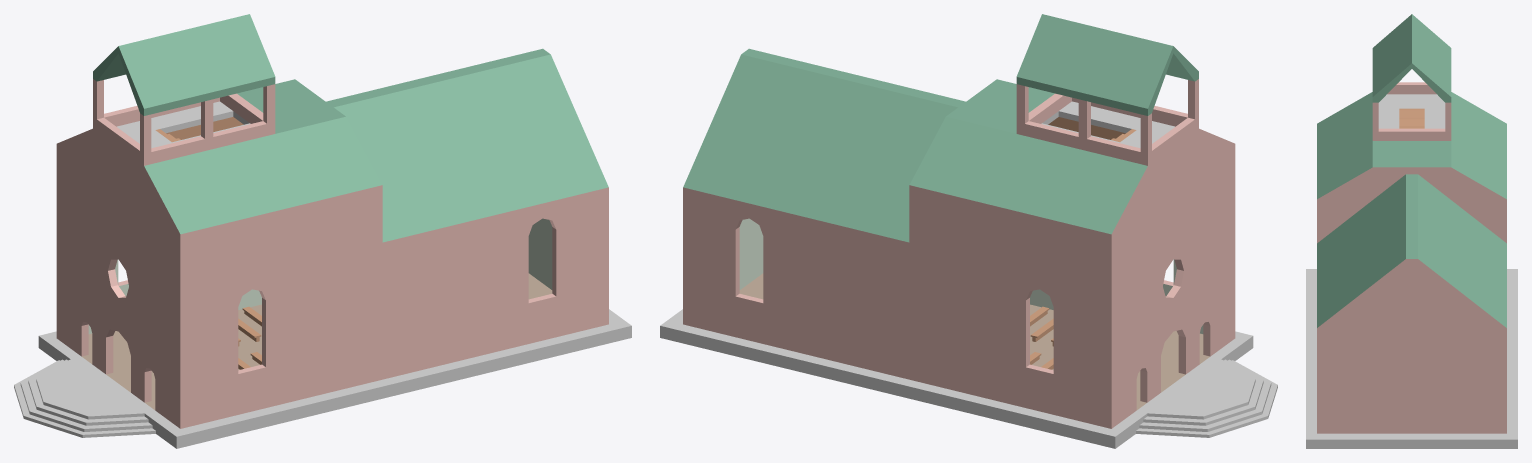
The model's file is Church.fbx.
3 renders of one model, left to right at view 1: azimuth 30°, elevation 25°; view 2: azimuth 150°, elevation 25°; view 3: azimuth 270°, elevation 25°, orthographic. The views are drawn at different scales.
Visible parts, largest first — view 1: Church; view 2: Church; view 3: Church.
Boxes of the visible parts, <box> form: Church: <box>14,14,631,448</box>; Church: <box>660,14,1277,448</box>; Church: <box>1306,14,1517,448</box>.
Bounding box in the file's own units: 38.97 × 24.16 × 17.28.
